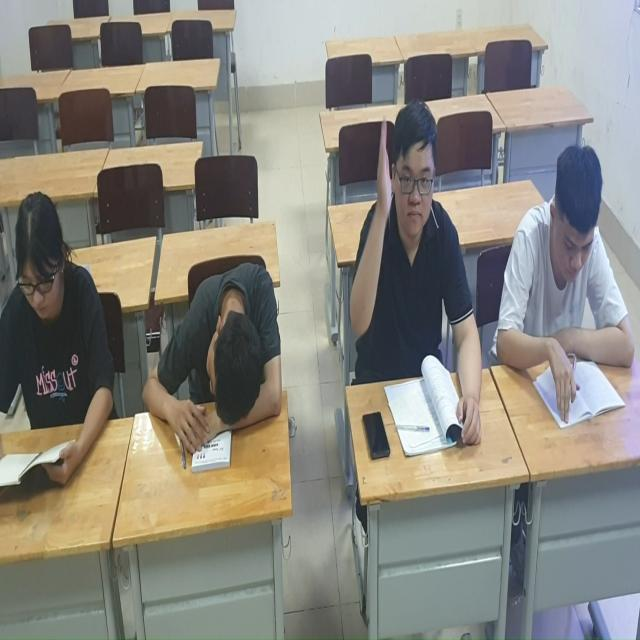raise_hand: (325, 111, 490, 455)
read: (496, 116, 634, 427), (1, 160, 114, 518)
sleep: (139, 232, 283, 473)
